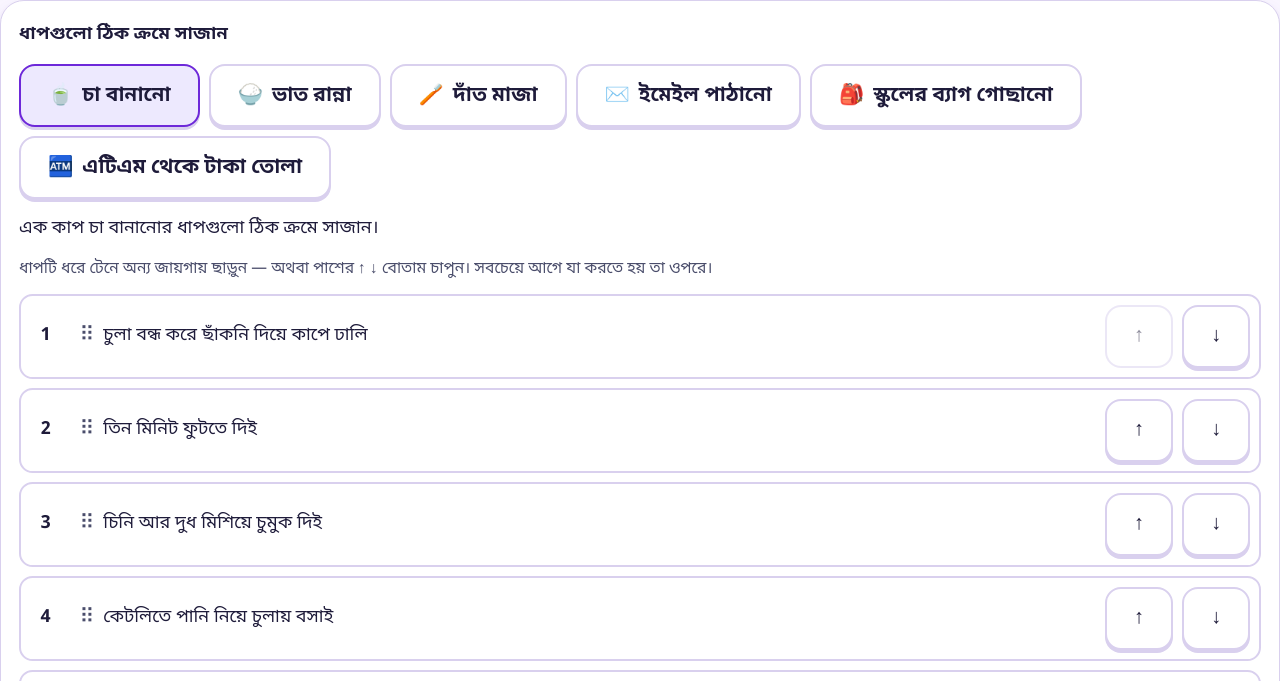
Test case: order-puzzle widget › picker switches puzzles
Click the button with test id "op-picker-atm".
click(175, 168)  # box [19,136,331,199]
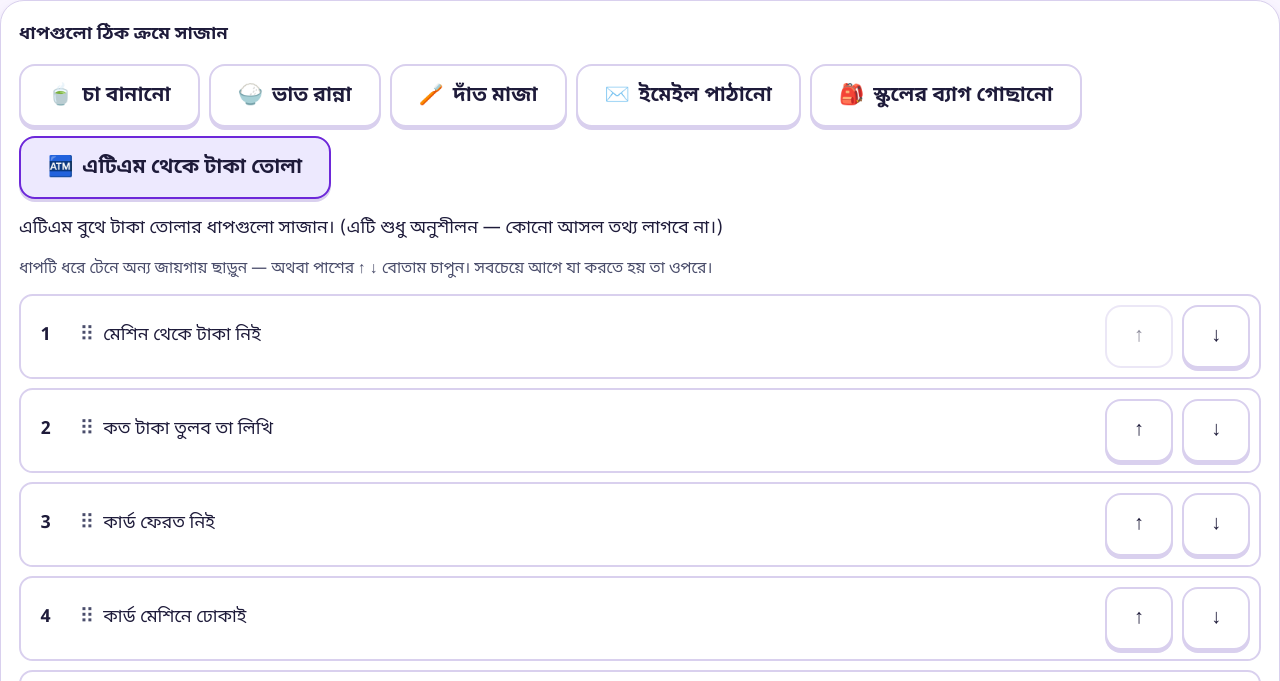
Expected: the text "কার্ড মেশিনে ঢোকাই" is shown, [103,602,246,634]
